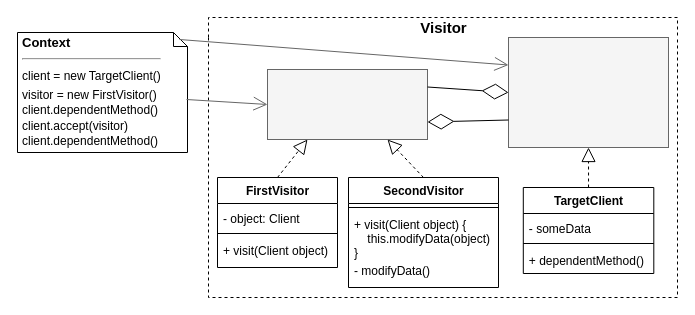
This 695x315 diagram has some shape labels left out. The shapes that lost their labels are listed below. From the top down, each one's centre as x and y in pixels, then its label:
(x=347, y=104): <<Interface>> Visitor + visit(Client object)
(x=588, y=92): <<Interface>> Client + accept(Visitor object) { return object.visit(this) }
